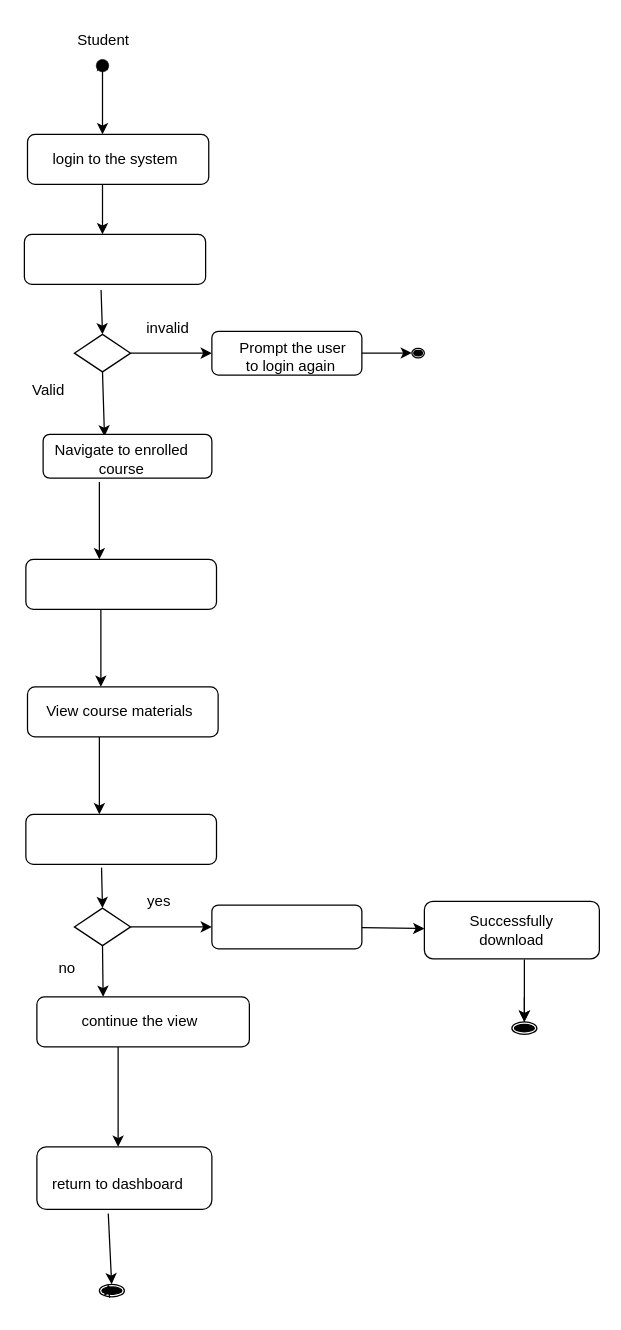
Image size: 621x1330. Some labels were removed from this diagram. Here are the shapes that lost their labels. From the top down, the centre of each, then its label:
At point 114,258: "Check the Availability".
At point 120,583: "Select courses".
At point 120,838: "if the student want to download the materials".
At point 286,926: "allow to download".
